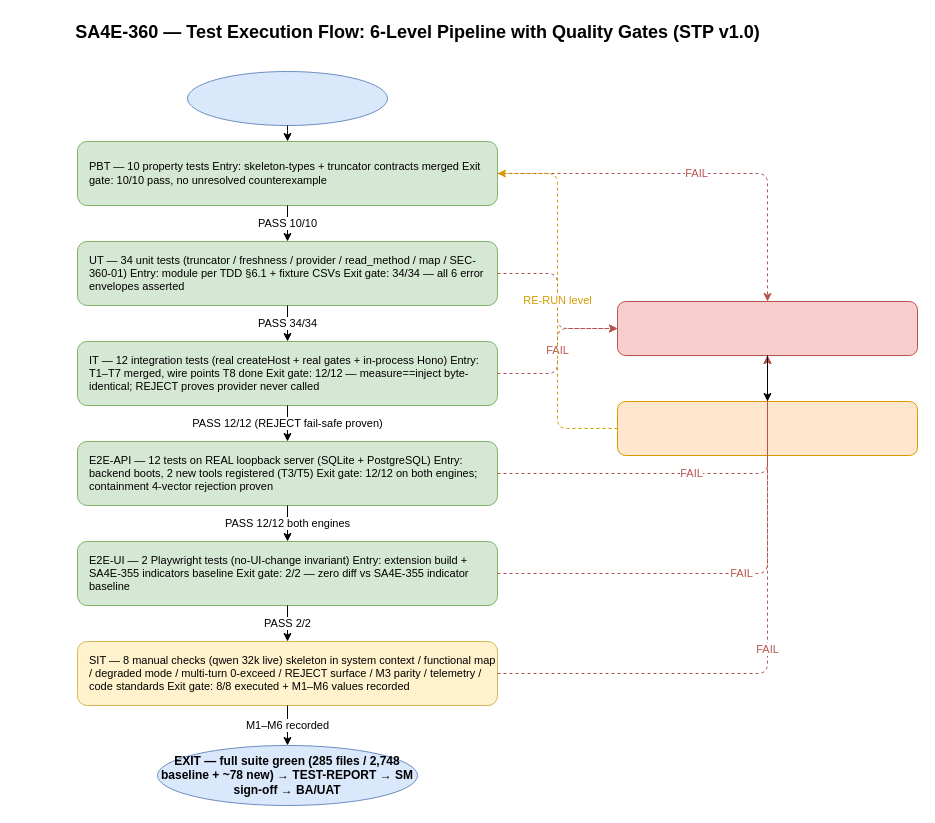
Some shapes in this 935 by 823 pixel diagram are drawn without their labels. Here are the shapes that lost their labels. From the top down, the box of each, then its label:
(186, 70, 388, 126): START — DEV task complete (TDD §12 test-first, npm test green per task)
(616, 300, 918, 356): DEFECT logged (Severity C/M/m/t + P1–P4, STP §8)
(616, 400, 918, 456): DEV fixes ROOT CAUSE (no-workaround rule) → re-run failed level → re-verify
